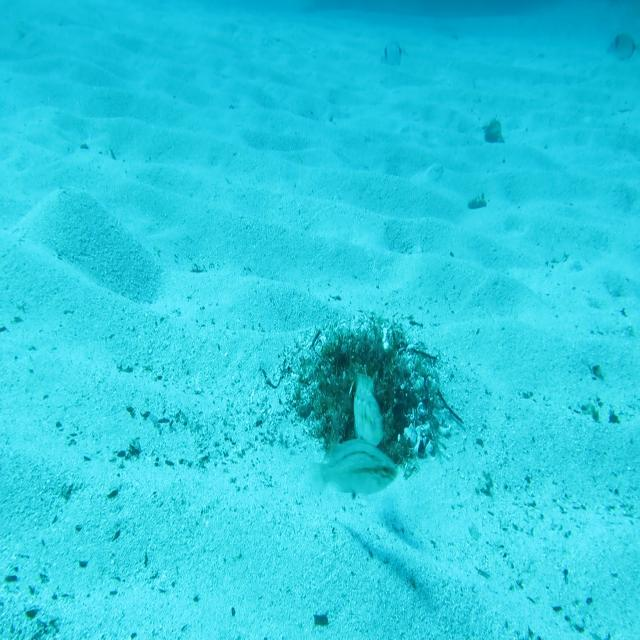CHASE_FLEE: (351, 366, 385, 449)
core_nest: (352, 349, 397, 375)
female: (308, 438, 399, 500)
nest: (280, 307, 456, 493)
other_fish: (605, 29, 640, 64), (379, 40, 405, 68)
vegetation: (482, 118, 508, 149), (466, 192, 487, 212), (313, 610, 331, 630)
